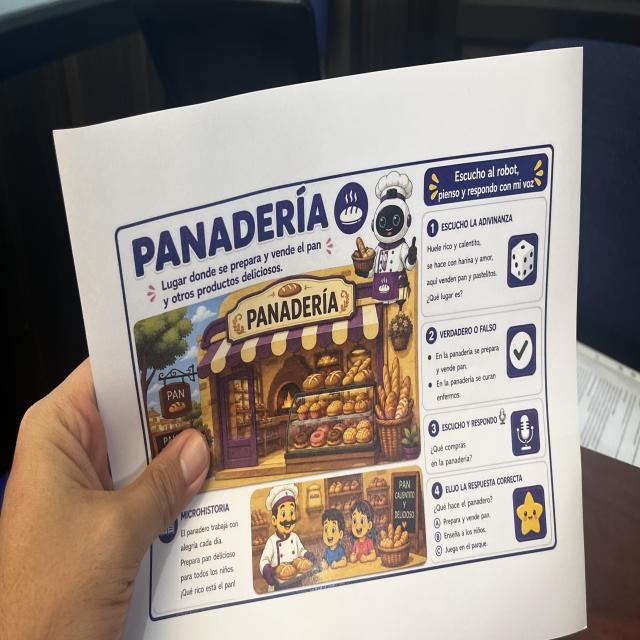panaderia: (111, 137, 561, 628)
